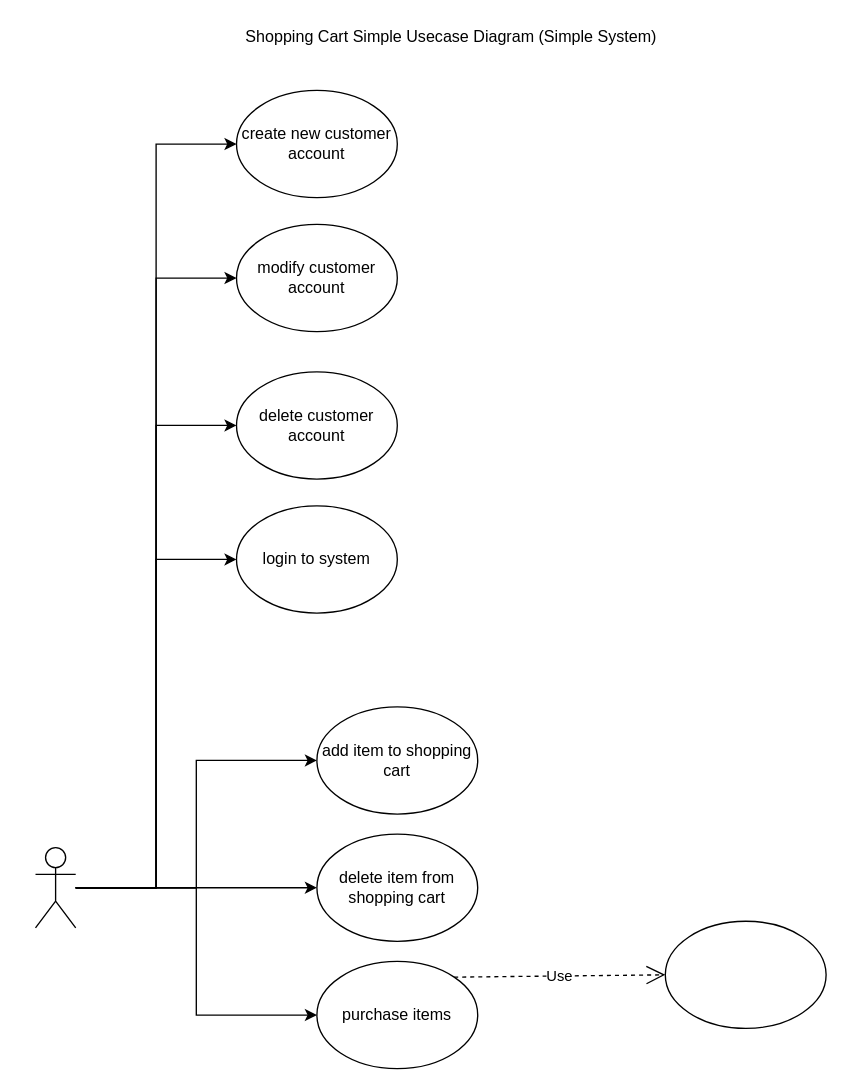
The diagram is 850 pixels wide and 1092 high, and some of its shapes have lost their labels. Here are the shapes that lost their labels. From the top down, the box of each, then its label:
(34, 846, 76, 928): customer
(664, 920, 826, 1028): convert shopping cart to invoice and order
